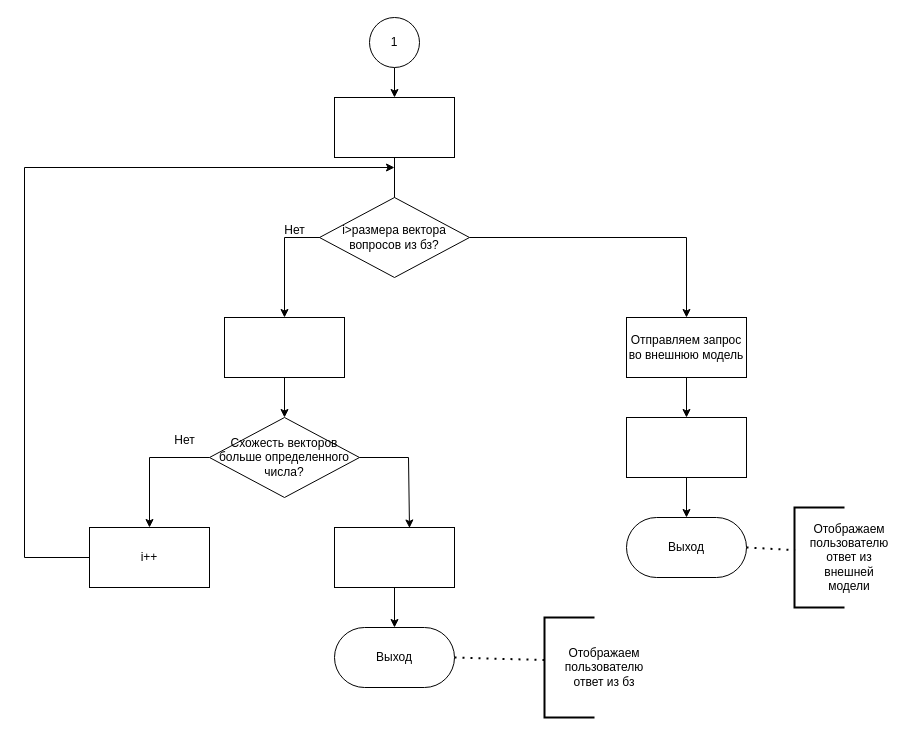
The diagram is 912 pixels wide and 736 high, and some of its shapes have lost their labels. The centre of each missing label's shape, as x and y in pixels:
"i=0" goes at point 394,127.
"Берем i-ый вектор и вектор вопроса пользователя" goes at point 284,347.
"Берем ответ из бз" goes at point 394,557.
"Сохраняем вопрос с ответом в бз" goes at point 686,447.
